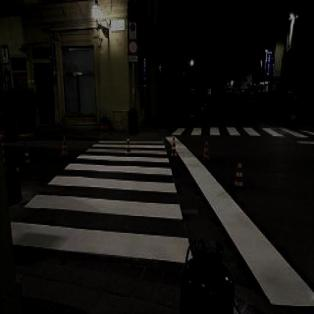Paso de Cebra: (19, 173, 188, 221), (73, 145, 174, 164)
